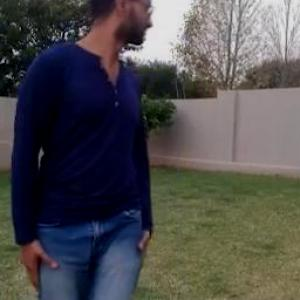follow: (8, 0, 158, 299)
